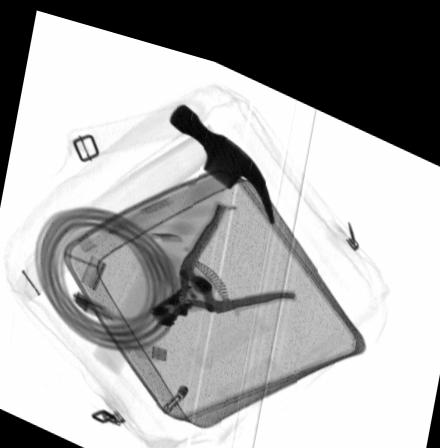Hammer: (90, 91, 275, 367)
Pliers: (147, 189, 297, 319)
